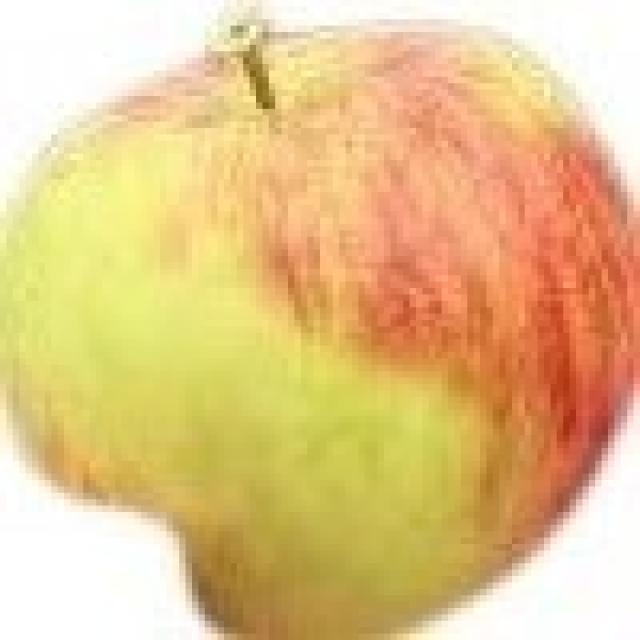75-_ripeness: (0, 13, 634, 640)
